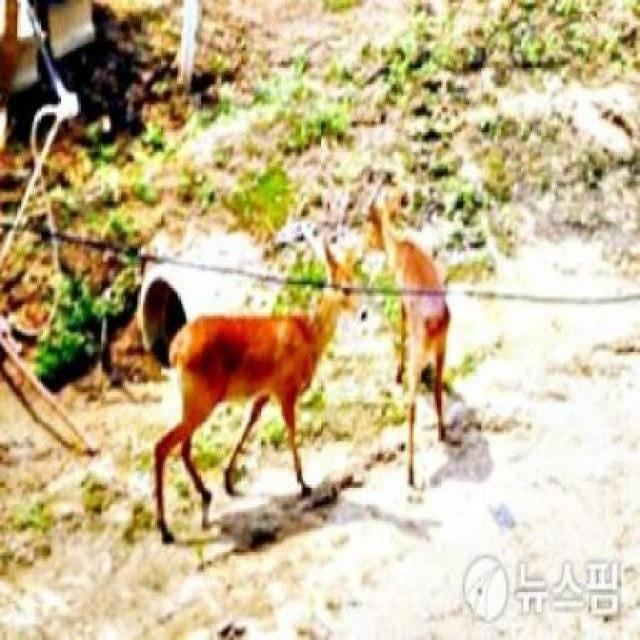deer: (142, 235, 355, 537), (362, 196, 496, 519)
